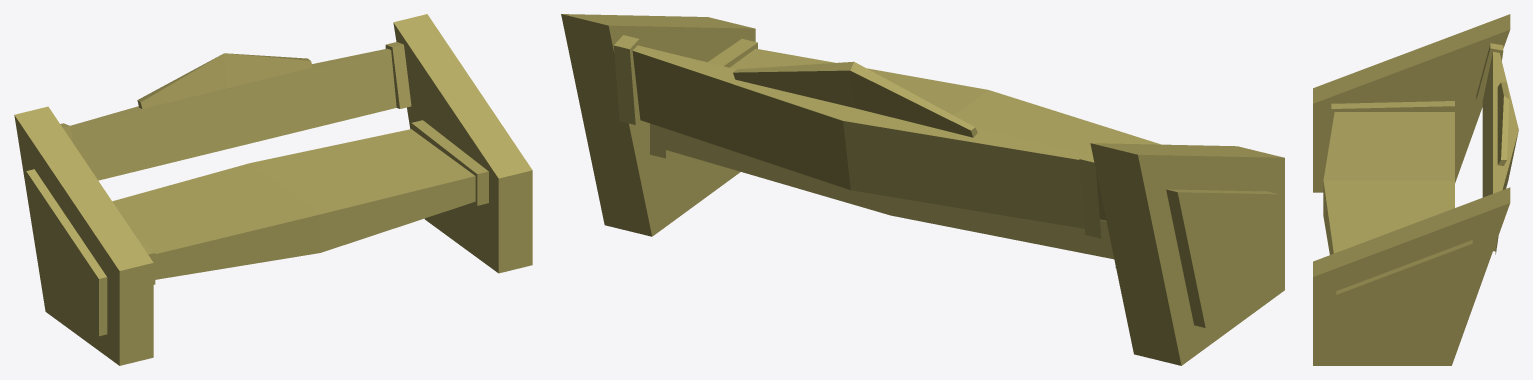
File: Bench_01_Art.fbx
3 renders of one model, left to right at view 1: azimuth 30°, elevation 25°; view 2: azimuth 150°, elevation 25°; view 3: azimuth 270°, elevation 25°, orthographic. The views are drawn at different scales.
Visible parts, largest first — view 1: Bench_01; view 2: Bench_01; view 3: Bench_01.
Part boxes in pixels (<box>): Bench_01: <box>14,14,532,365</box>; Bench_01: <box>561,14,1284,365</box>; Bench_01: <box>1313,14,1518,365</box>.
Size of the model in its own units: 214 by 89.23 by 94.61.
